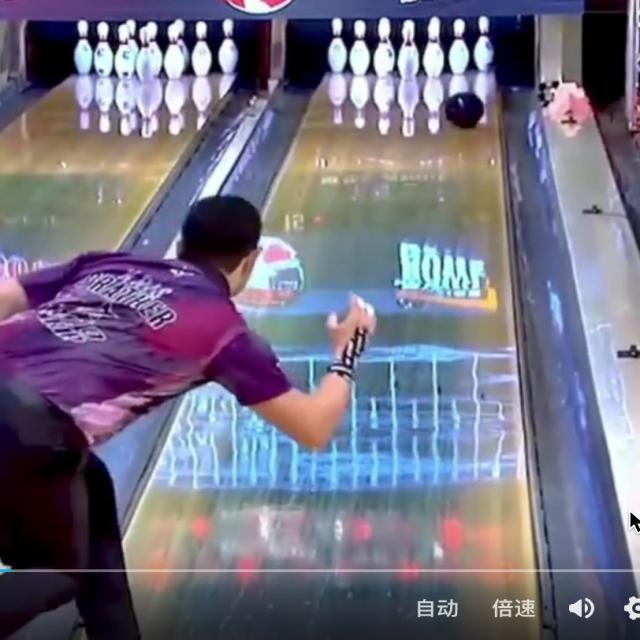alley: (127, 73, 538, 639)
balls: (445, 91, 483, 128)
bottle: (373, 17, 445, 78), (328, 19, 370, 75), (447, 18, 470, 75), (472, 16, 493, 72)
